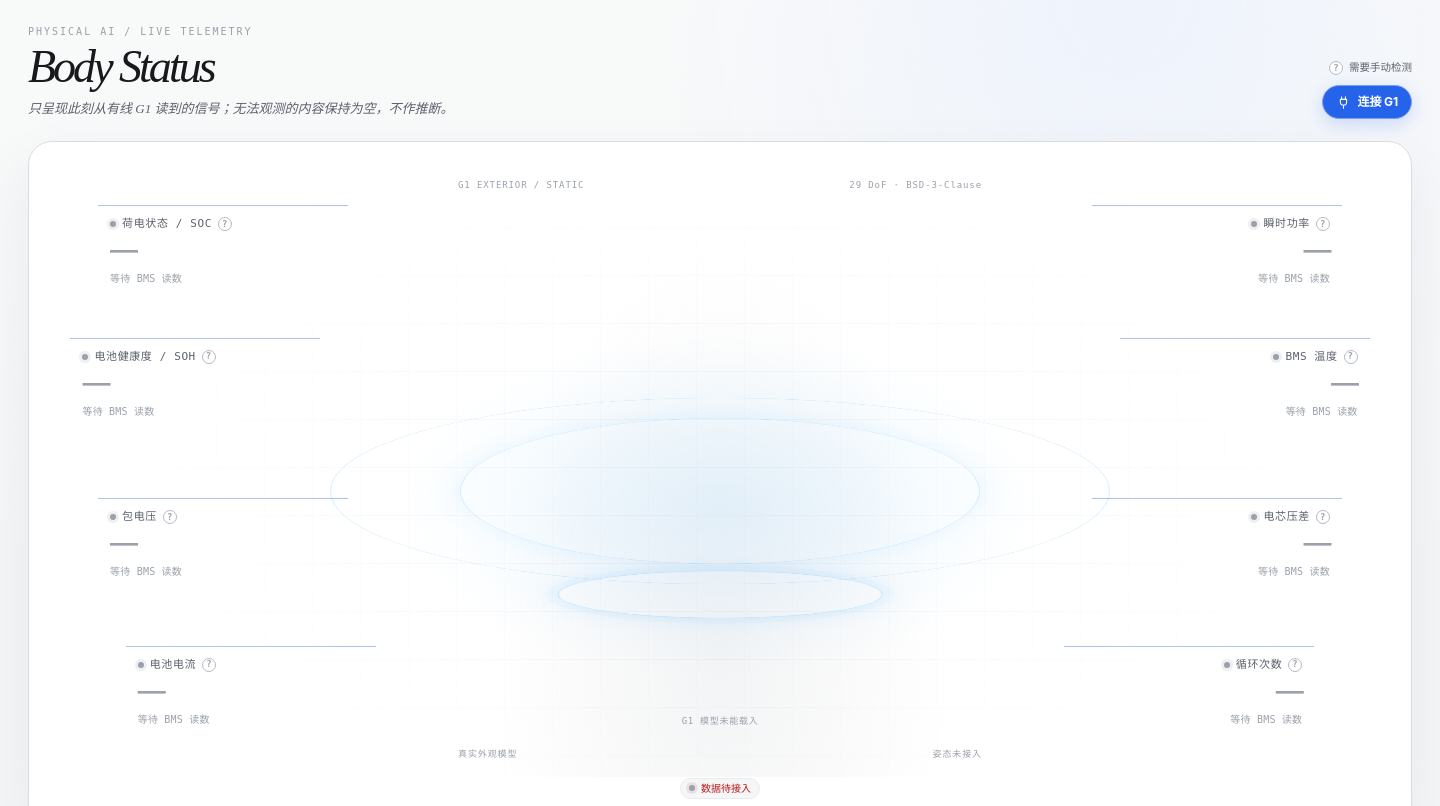
G1MonitorView › does not invent a snapshot when the monitor bridge is absent
The width and height of the screenshot is (1440, 806).
Step 1. Click the button "连接 G1" → (1367, 102), box [1322, 85, 1412, 119]
(page scrolled)
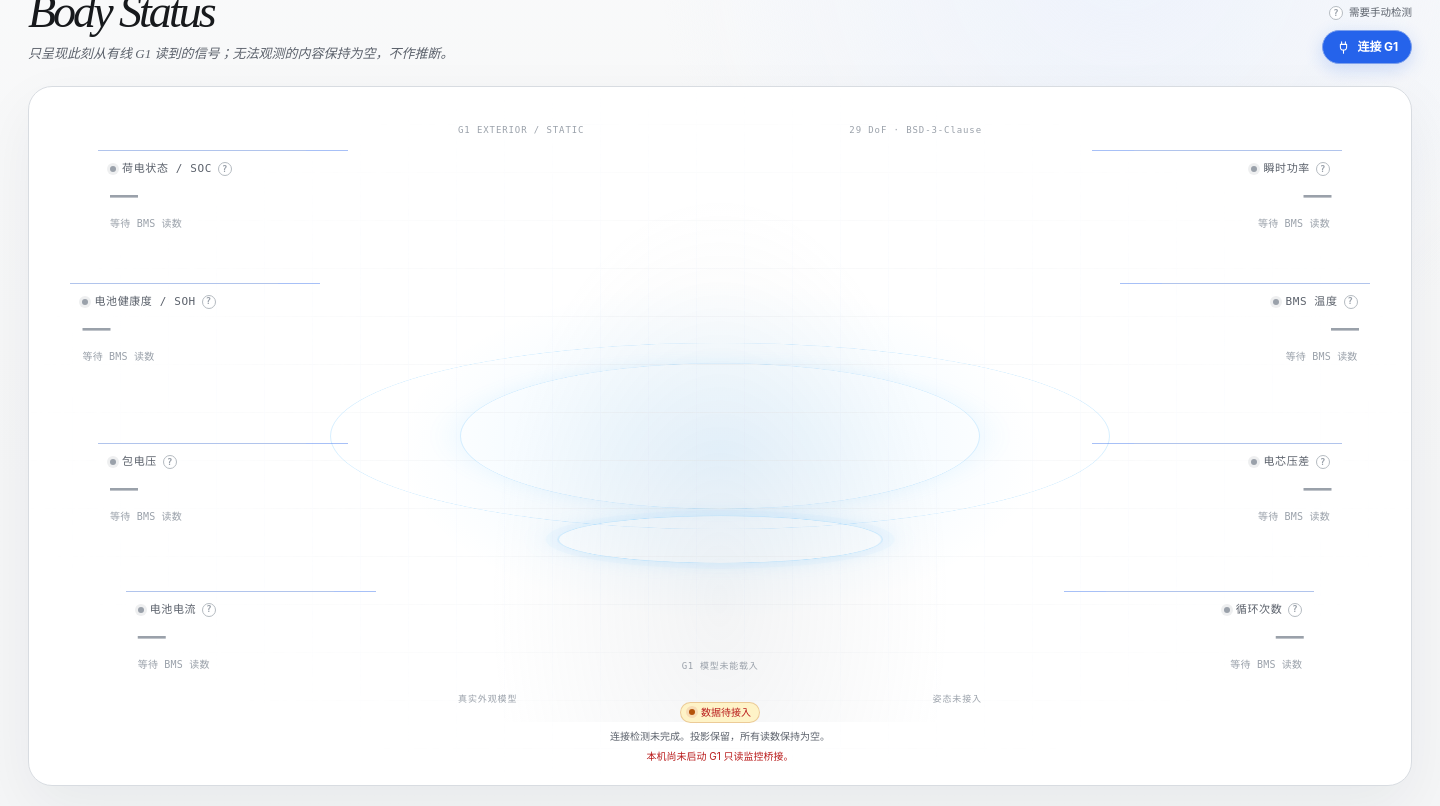
Check: the text "本机尚未启动 G1 只读监控桥接。" is shown, box [646, 749, 794, 764]
